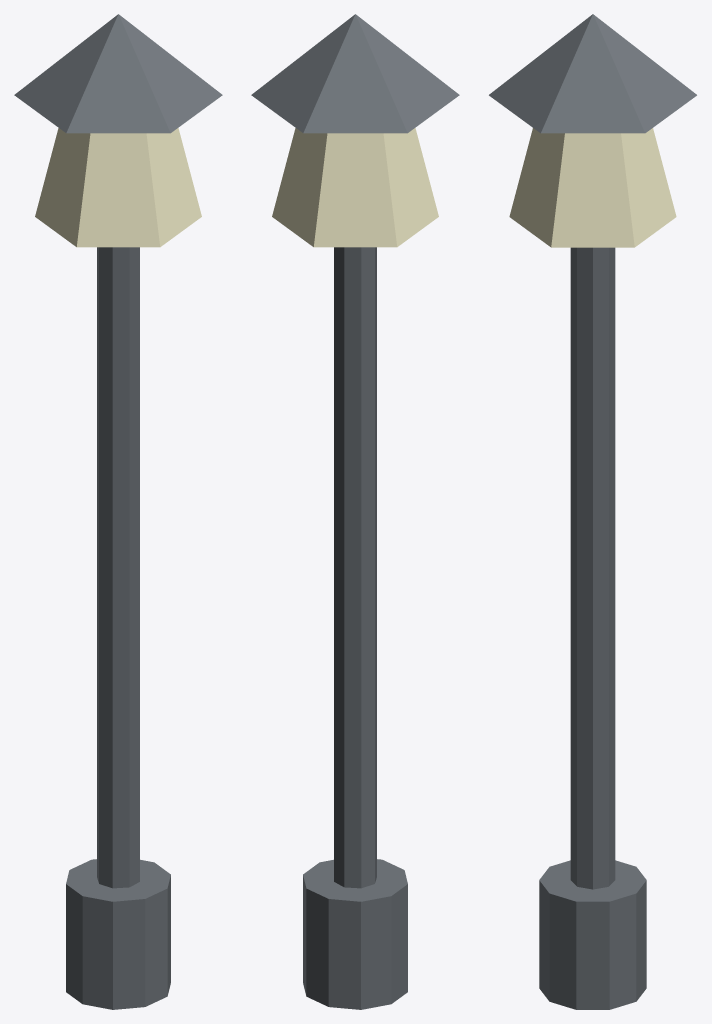
File: prop_lamp.glb
3 views of the same model, side by side, from view 1: azimuth 30°, elevation 25°; view 2: azimuth 150°, elevation 25°; view 3: azimuth 270°, elevation 25° (orthographic).
Parts seen in each view (by area): view 1: Cylinder.001, Cone, Cone.001, Cylinder; view 2: Cylinder.001, Cone, Cone.001, Cylinder; view 3: Cylinder.001, Cone, Cone.001, Cylinder.
Boxes of the visible parts, x1,y1,x2,y2 form: Cylinder.001: (97,247,139,888); Cone: (35,128,201,247); Cone.001: (14,14,222,133); Cylinder: (66,859,170,1009); Cylinder.001: (334,247,376,888); Cone: (272,128,438,247); Cone.001: (251,14,459,133); Cylinder: (303,859,407,1009); Cylinder.001: (570,247,615,889); Cone: (509,128,676,247); Cone.001: (489,14,696,133); Cylinder: (539,860,646,1009).
Bounding box in the file's own units: 0.6062 × 3.6 × 0.7.
